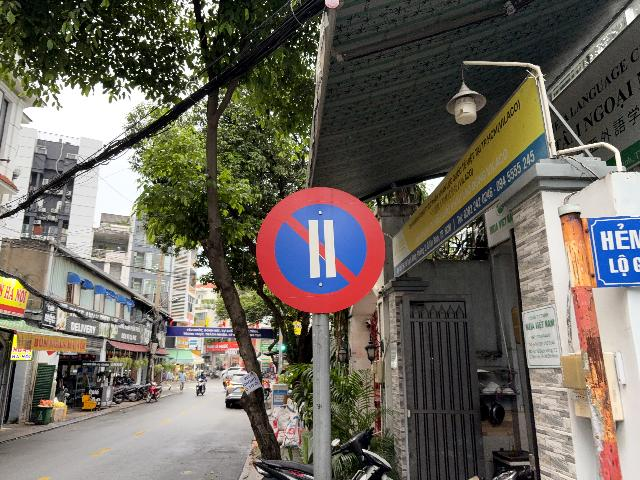cam-do-xe-ngay-chan: (256, 187, 386, 315)
